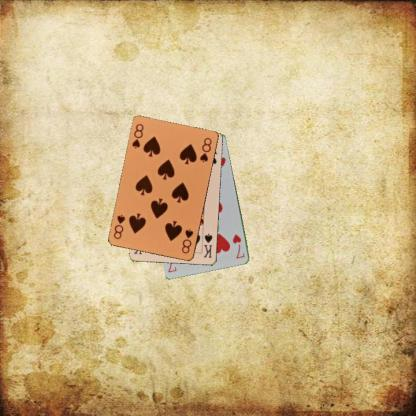7h: (230, 232, 246, 260)
8s: (179, 226, 195, 255), (129, 122, 145, 150)
Ks: (201, 231, 214, 260)
